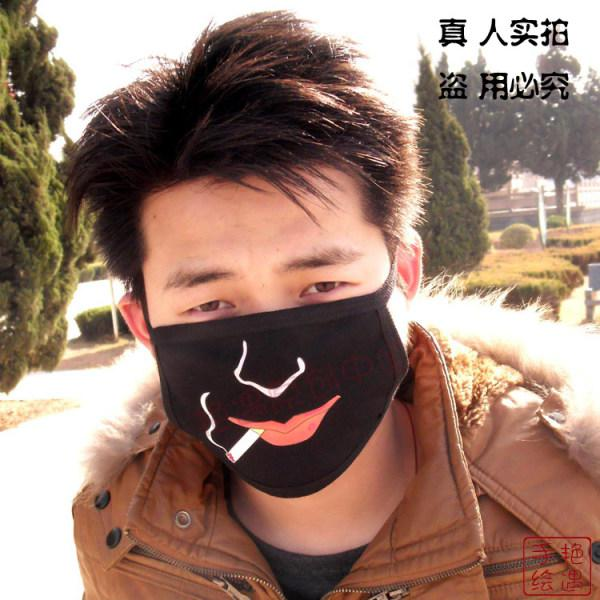OK: (160, 242, 411, 493)
